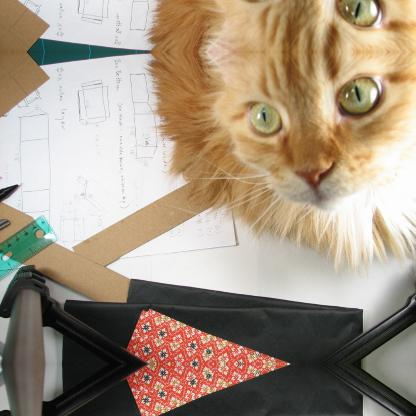Cat: (140, 52, 414, 283), (139, 0, 415, 53)
